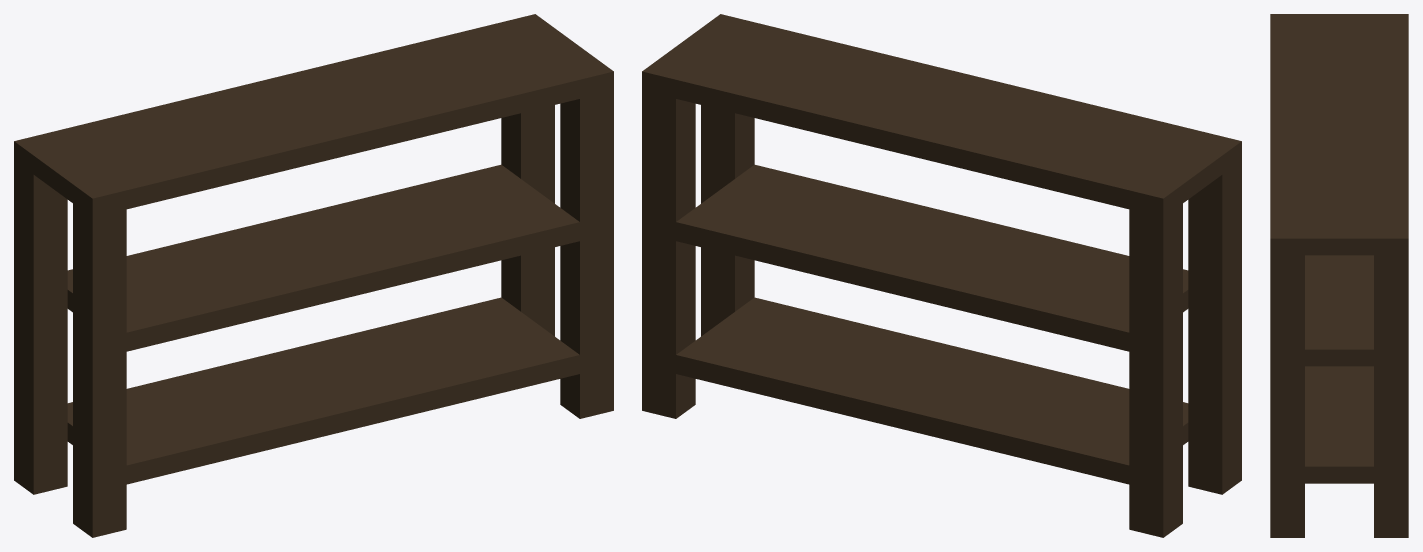
Rendered from OC_MOB_SHELVES_SMALL.OBJ.
3 renders of one model, left to right at view 1: azimuth 30°, elevation 25°; view 2: azimuth 150°, elevation 25°; view 3: azimuth 270°, elevation 25°, orthographic. The views are drawn at different scales.
Parts seen in each view (by area): view 1: OC_MOB_SHELVES_SMALL; view 2: OC_MOB_SHELVES_SMALL; view 3: OC_MOB_SHELVES_SMALL.
Boxes of the visible parts, x1=… form: OC_MOB_SHELVES_SMALL: x1=14, y1=14, x2=613, y2=537; OC_MOB_SHELVES_SMALL: x1=642, y1=14, x2=1241, y2=537; OC_MOB_SHELVES_SMALL: x1=1270, y1=14, x2=1408, y2=537.
Size of the model in its own units: 2.3 by 1.43 by 0.6.
